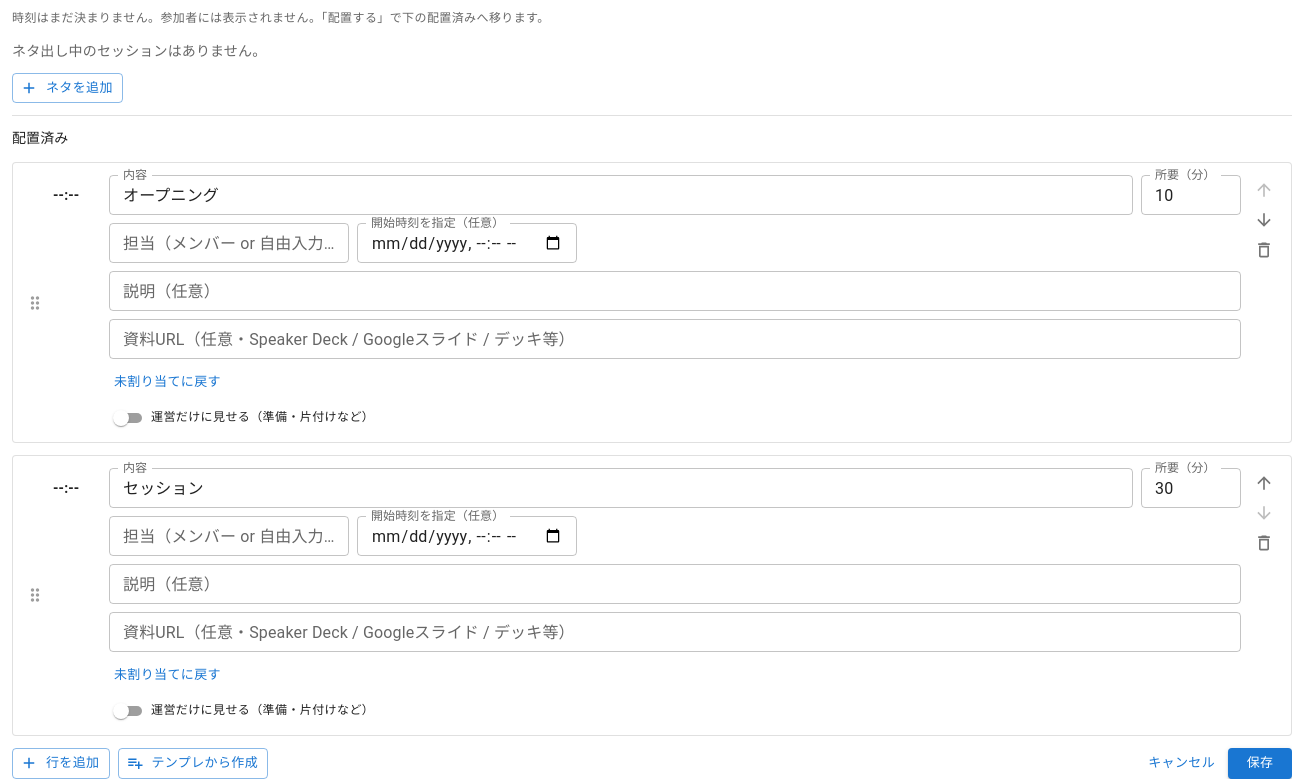
ScheduleEditor の同時編集 (#340) › 通信の失敗は衝突と別の案内にする（読み込み直しを出さない）
The image size is (1304, 779).
(page scrolled)
Click the button "保存" at (1260, 763), box [1228,748,1292,778]
(page scrolled)
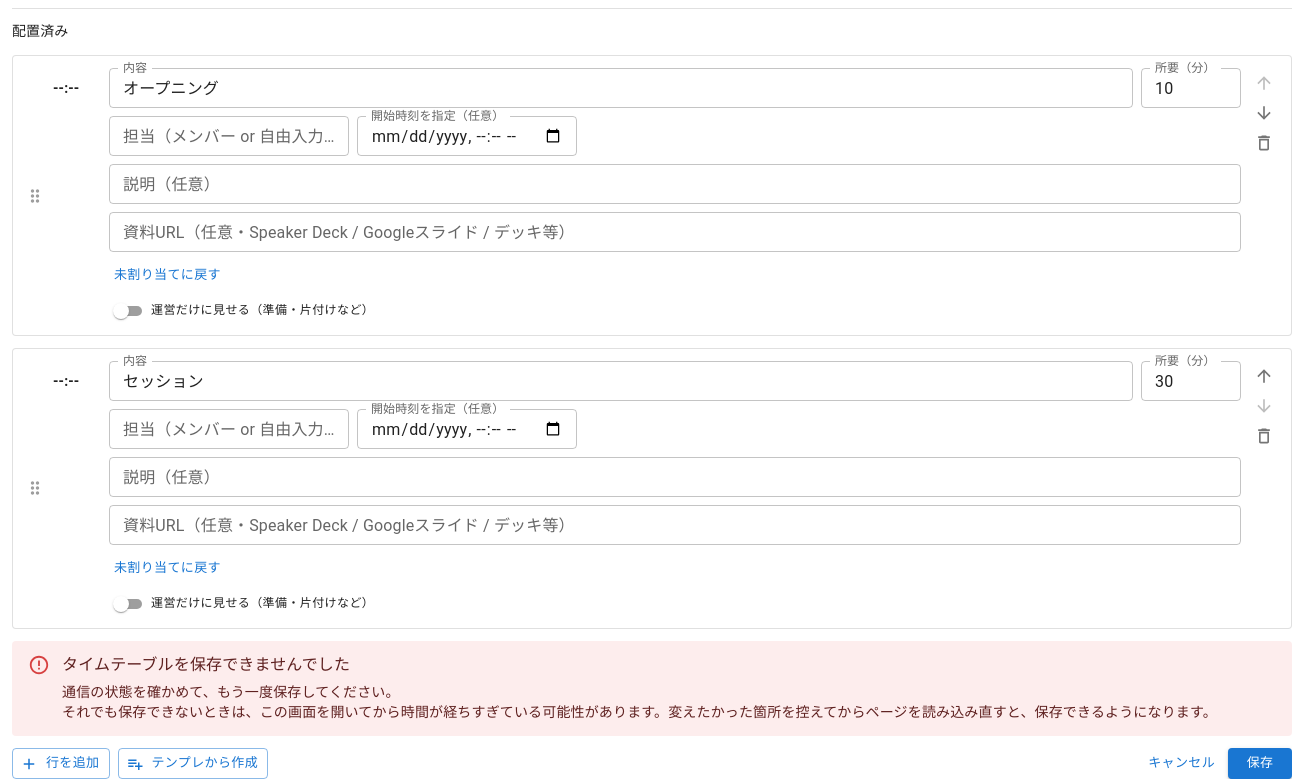
Now the text "タイムテーブルを保存できませんでした" is shown, box [62,655,350,674]
